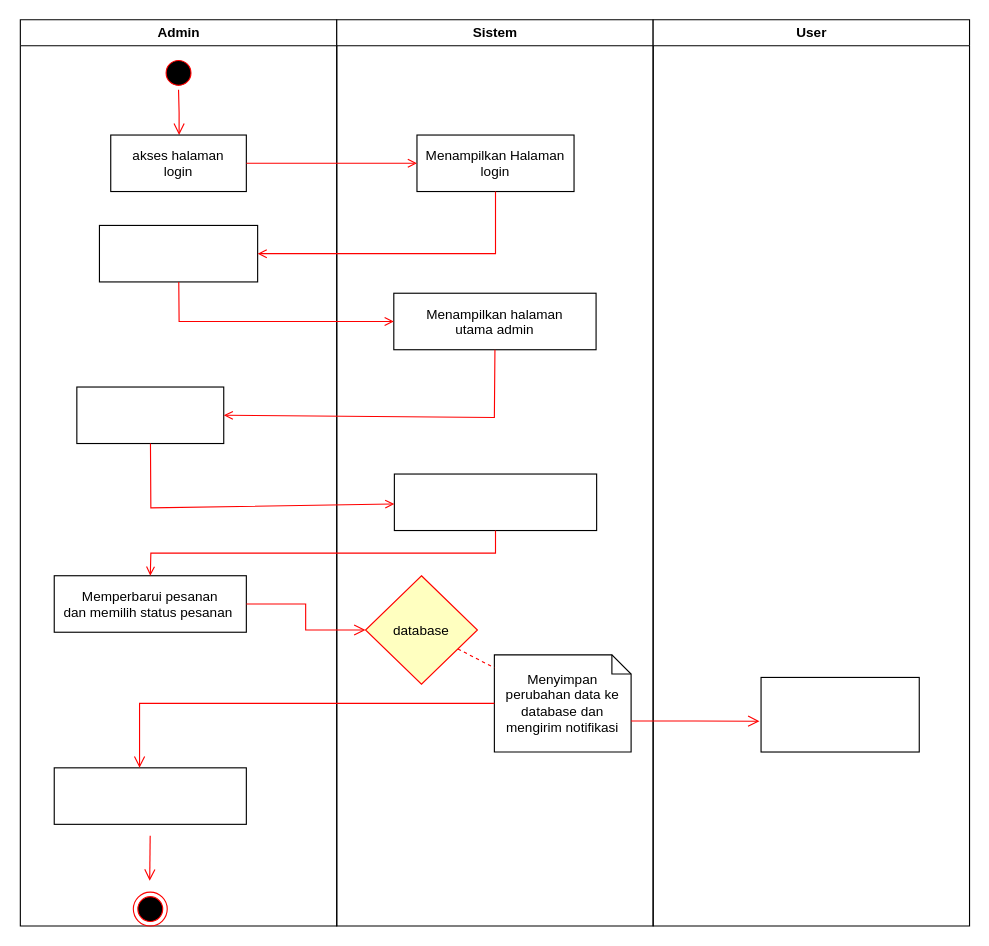
Some shapes in this 989 by 946 pixel diagram are drawn without their labels. Here are the shapes that lost their labels. From the top down, the centre of each, then its label:
At pixel 178 253: "Mengisi form admin".
At pixel 150 415: "mengklik opsi orderan".
At pixel 495 502: "menampilkan orderan masuk".
At pixel 839 714: "Menampilkan Perubahan data".
At pixel 149 795: "Menerima notifikasi".
